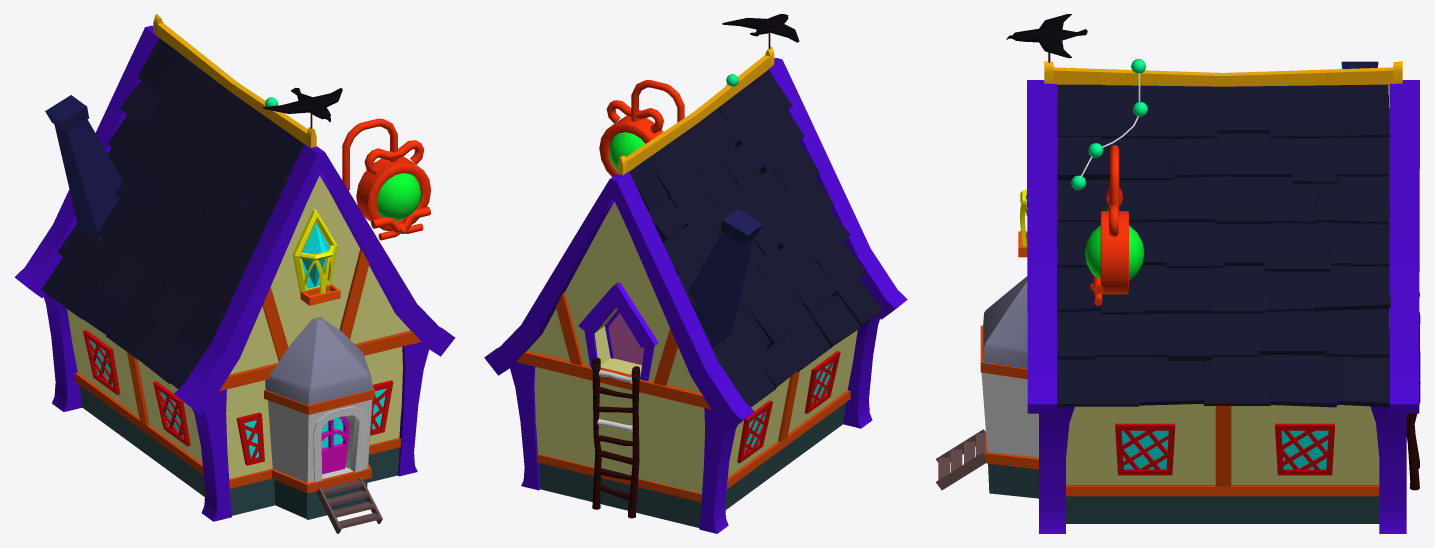
File: F_House_Out_001.fbx
3 views of the same model, side by side, from view 1: azimuth 30°, elevation 25°; view 2: azimuth 150°, elevation 25°; view 3: azimuth 270°, elevation 25° (orthographic). The views are drawn at different scales.
Parts seen in each view (by area): view 1: Object085, Object447, Object087; view 2: Object085; view 3: Object085, Object447.
Part boxes in pixels (box(x1,y1,x2,y2)): Object085: box(14, 14, 455, 533); Object447: box(268, 399, 372, 483); Object087: box(313, 406, 367, 482); Object085: box(484, 14, 907, 533); Object085: box(936, 14, 1420, 533); Object447: box(981, 372, 1038, 457).
Size of the model in its own units: 357 by 486 by 475.
